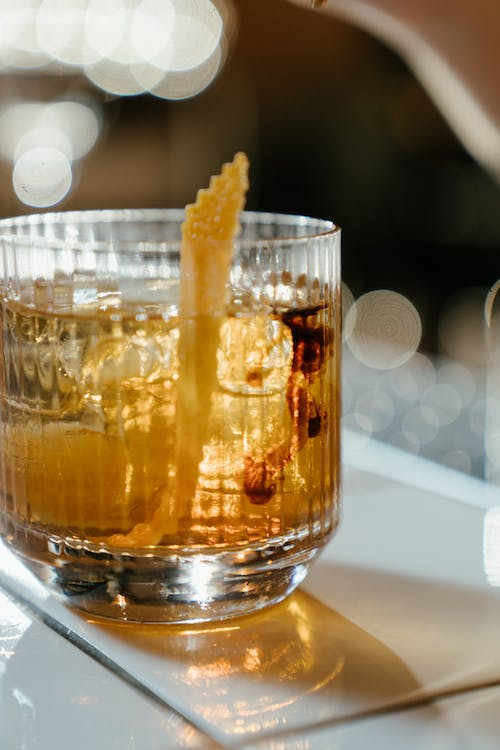alcohol: (0, 207, 344, 626)
